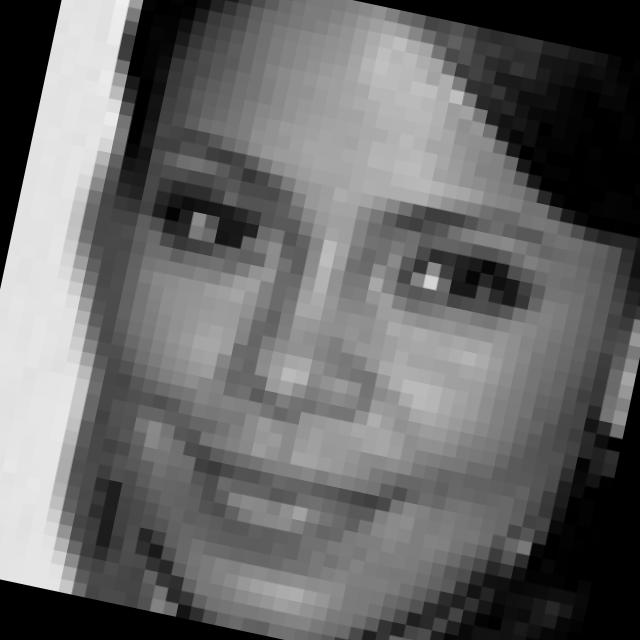neutral: (73, 118, 572, 605)
